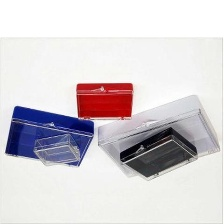plastic_box: (90, 89, 222, 183), (0, 101, 97, 172), (115, 123, 202, 186), (70, 78, 137, 125), (28, 130, 82, 171)
